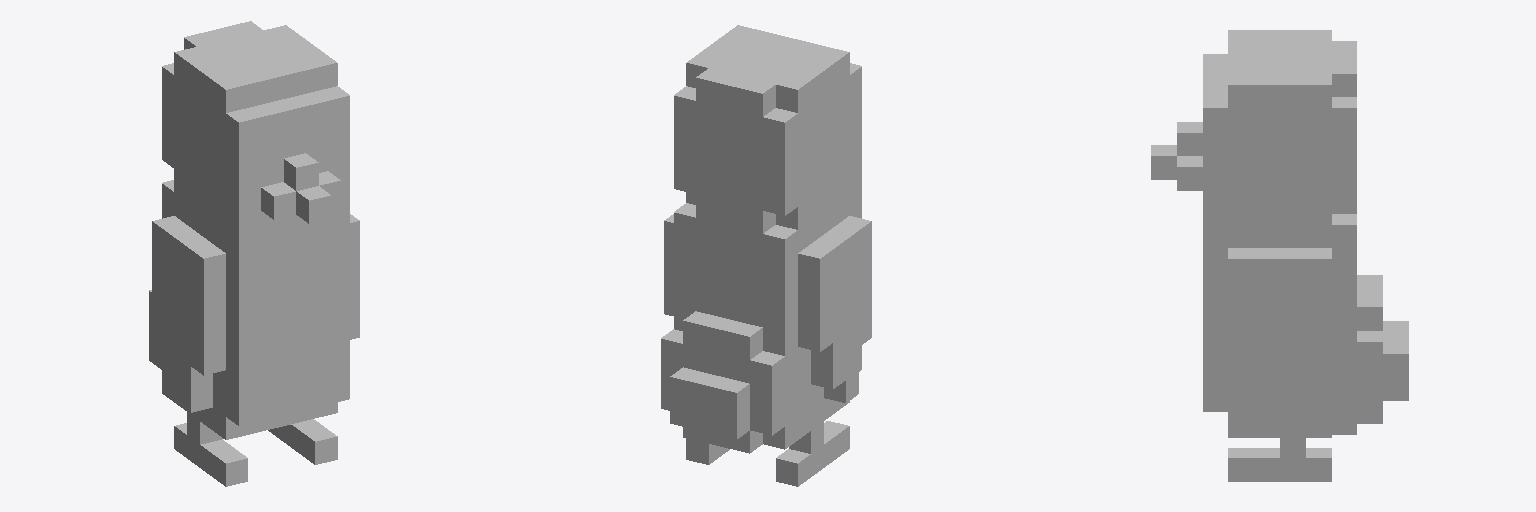
The model's file is penguin_v2.obj.
The picture shows the model from 3 angles: view 1: azimuth 30°, elevation 25°; view 2: azimuth 150°, elevation 25°; view 3: azimuth 270°, elevation 25°; orthographic projection.
Parts seen in each view (by area): view 1: object 1; view 2: object 1; view 3: object 1.
Part boxes in pixels (bbox=[...]): object 1: bbox=[149, 21, 359, 486]; object 1: bbox=[661, 25, 871, 486]; object 1: bbox=[1151, 30, 1408, 481].
Size of the model in its own units: 0.7 by 1.7 by 1.